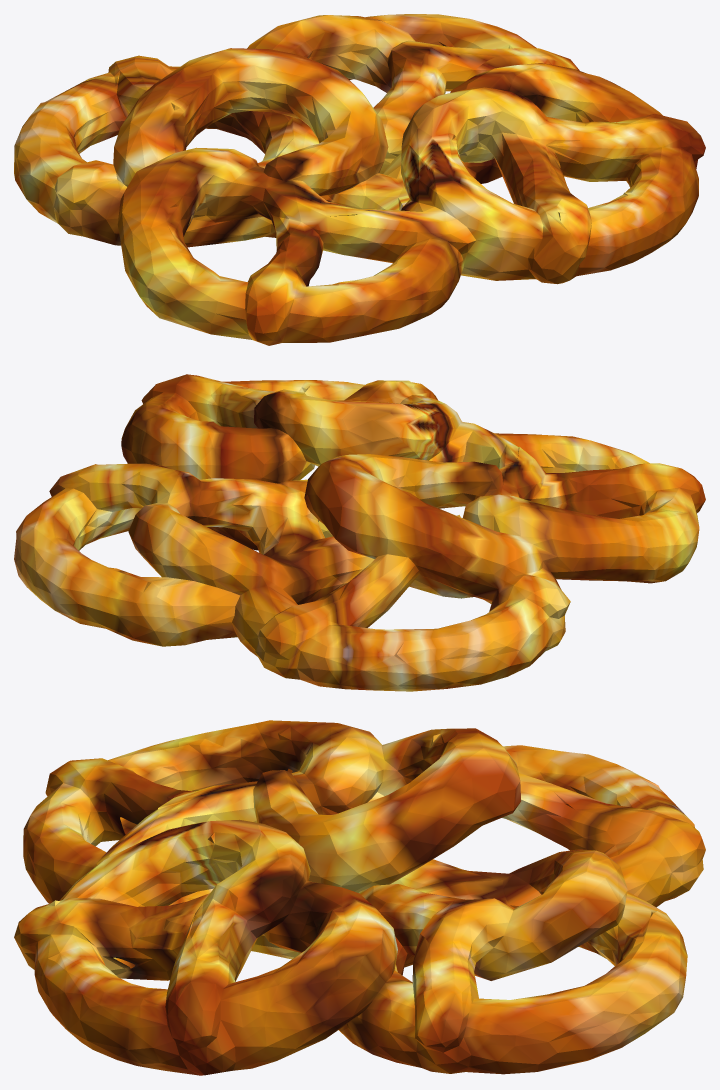
The model's file is BretzelsP.fbx.
The picture shows the model from 3 angles, top to bottom: view 1: azimuth 30°, elevation 25°; view 2: azimuth 150°, elevation 25°; view 3: azimuth 270°, elevation 25°; orthographic projection. The views are drawn at different scales.
Visible parts, largest first — view 1: Mesh1.0; view 2: Mesh1.0; view 3: Mesh1.0.
Boxes of the visible parts, <box> form: Mesh1.0: <box>14,14,705,345</box>; Mesh1.0: <box>14,374,705,691</box>; Mesh1.0: <box>14,720,705,1075</box>.
Size of the model in its own units: 190 by 43.15 by 181.
Materials: 1 (1 with a texture image).
